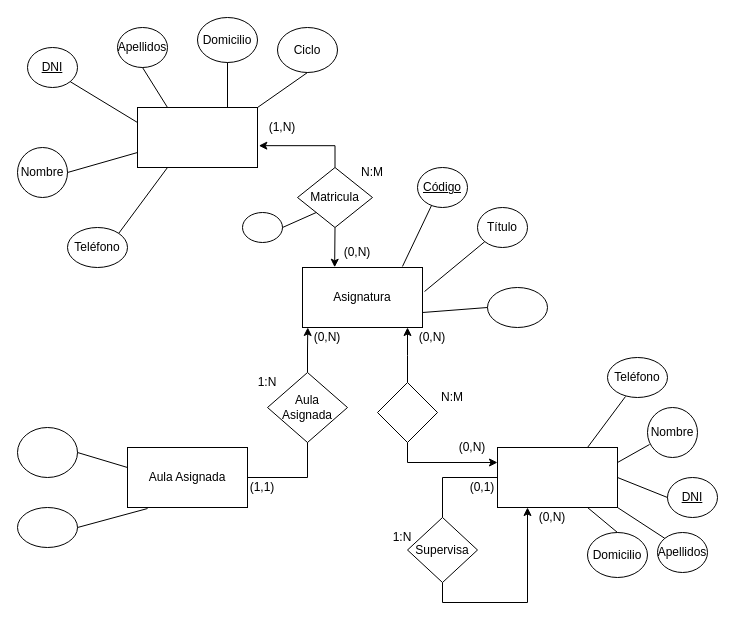
Some shapes in this 735 by 628 pixel diagram are drawn without their labels. The centre of each missing label's shape, as x and y in pixels:
Alumno: point 197,137
Imparte: point 407,412
Nota: point 262,227
Nº Aula: point 47,527
Nº Edificio: point 47,452
Nº Horas: point 517,307
Profesor: point 557,477
